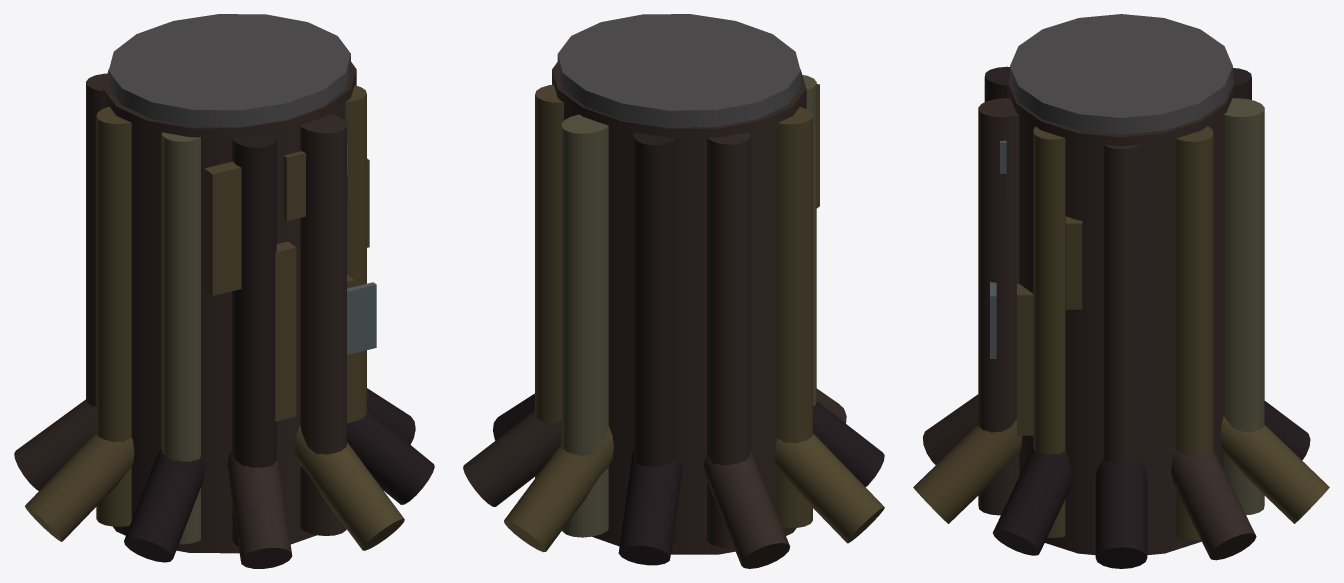
Rendered from CMU3DRMCStump1NaturalFinalCloud.glb.
The picture shows the model from 3 angles, left to right: view 1: azimuth 30°, elevation 25°; view 2: azimuth 150°, elevation 25°; view 3: azimuth 270°, elevation 25°; orthographic projection.
Parts seen in each view (by area): view 1: irregular bark trunk core, cut top plane, long split bark flute 9, long split bark flute 8, long split bark flute 7, long split bark flute 6, flared root 6, flared root 9, flared root 7, flared root 8, ochre vertical exposed wood scar 1, long split bark flute 10 (+8 smaller); view 2: irregular bark trunk core, cut top plane, long split bark flute 3, long split bark flute 5, long split bark flute 4, long split bark flute 6, long split bark flute 2, flared root 6, flared root 3, flared root 5, flared root 4, flared root 2 (+3 smaller); view 3: irregular bark trunk core, cut top plane, long split bark flute 3, long split bark flute 9, long split bark flute 2, long split bark flute 1, long split bark flute 10, flared root 2, flared root 1, flared root 3, flared root 9, flared root 10 (+7 smaller).
Part boxes in pixels (x1,y1,x2,y2): irregular bark trunk core: [103, 62, 356, 553]; cut top plane: [108, 14, 350, 126]; long split bark flute 9: [300, 114, 346, 535]; long split bark flute 8: [232, 132, 276, 546]; long split bark flute 7: [161, 132, 200, 544]; long split bark flute 6: [96, 106, 131, 526]; flared root 6: [25, 432, 134, 541]; flared root 9: [295, 425, 404, 550]; flared root 7: [124, 449, 204, 562]; flared root 8: [227, 448, 292, 568]; ochre vertical exposed wood scar 1: [204, 161, 241, 295]; long split bark flute 10: [345, 85, 366, 420]; irregular bark trunk core: [552, 62, 806, 554]; cut top plane: [557, 14, 800, 127]; long split bark flute 3: [561, 114, 608, 537]; long split bark flute 5: [707, 132, 750, 548]; long split bark flute 4: [633, 132, 676, 544]; long split bark flute 6: [777, 107, 812, 527]; long split bark flute 2: [535, 84, 563, 477]; flared root 6: [775, 433, 884, 543]; flared root 3: [504, 426, 613, 552]; flared root 5: [704, 450, 790, 568]; flared root 4: [618, 449, 681, 565]; flared root 2: [463, 410, 561, 506]; irregular bark trunk core: [1007, 78, 1235, 555]; cut top plane: [1010, 14, 1232, 134]; long split bark flute 3: [1223, 98, 1264, 515]; long split bark flute 9: [978, 98, 1019, 515]; long split bark flute 2: [1176, 126, 1213, 540]; long split bark flute 1: [1104, 144, 1138, 463]; long split bark flute 10: [1033, 126, 1065, 537]; flared root 2: [1171, 450, 1256, 560]; flared root 1: [1095, 459, 1147, 568]; flared root 3: [1220, 416, 1329, 523]; flared root 9: [913, 419, 1022, 523]; flared root 10: [993, 447, 1071, 555].
Bounding box in the file's own units: 0.394 × 0.4365 × 0.3775.
Materials: 8 (2 with a texture image).
